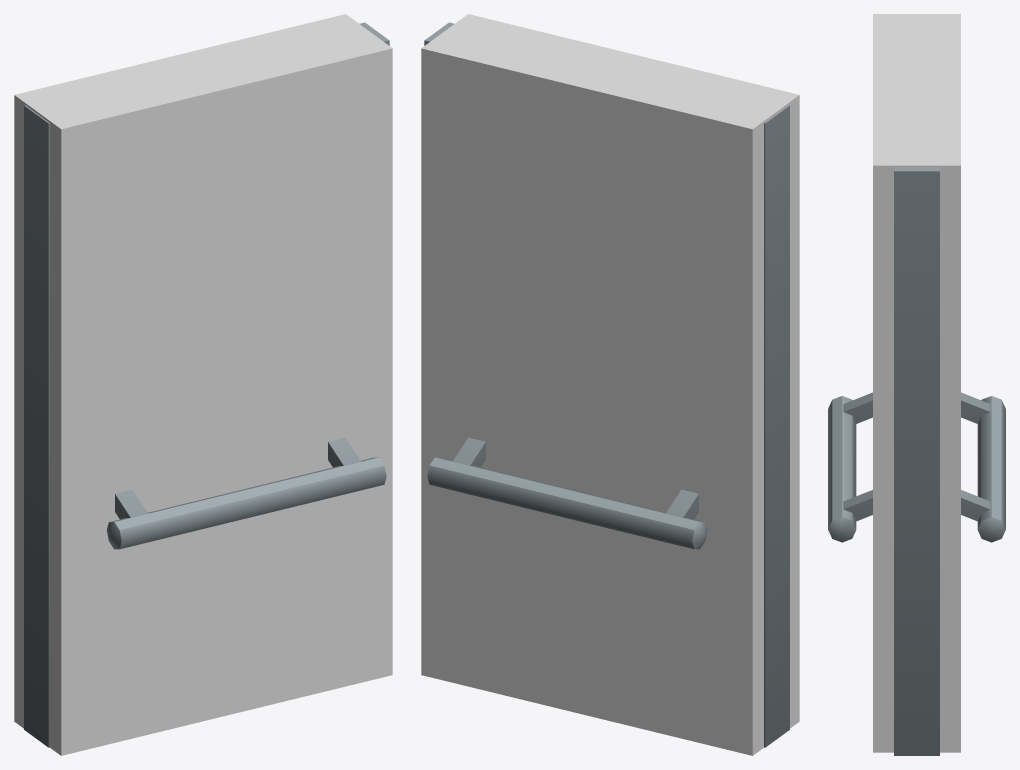
3 views of the same model, side by side, from view 1: azimuth 30°, elevation 25°; view 2: azimuth 150°, elevation 25°; view 3: azimuth 270°, elevation 25° (orthographic). The views are drawn at different scales.
Parts seen in each view (by area): view 1: cutout, door_B; view 2: cutout, door_B; view 3: cutout, door_B.
Part boxes in pixels (x1,y1,x2,y2): cutout: (14,14,392,755); door_B: (24,22,389,747); cutout: (421,14,799,755); door_B: (424,22,789,747); cutout: (873,14,960,752); door_B: (828,167,1005,755).
Size of the model in its own units: 1.6 by 2.81 by 0.7713.
1 material, 1 textured.
